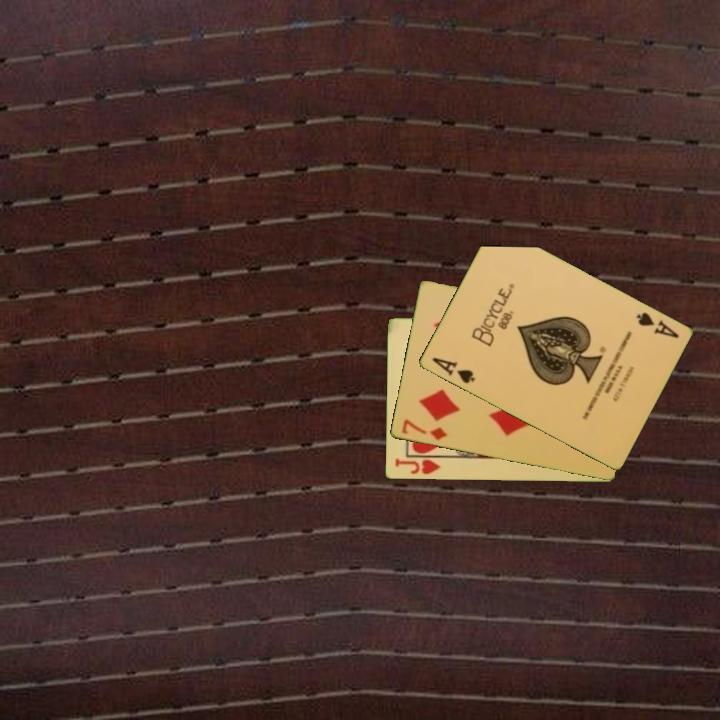7d: (398, 416, 450, 444)
As: (428, 354, 478, 387), (632, 309, 681, 341)
Jh: (391, 455, 443, 477)
